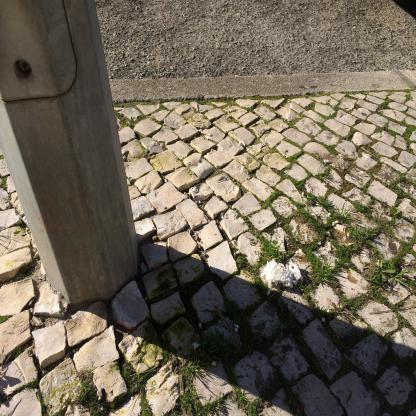Styrofoam piece: (261, 258, 303, 289)
